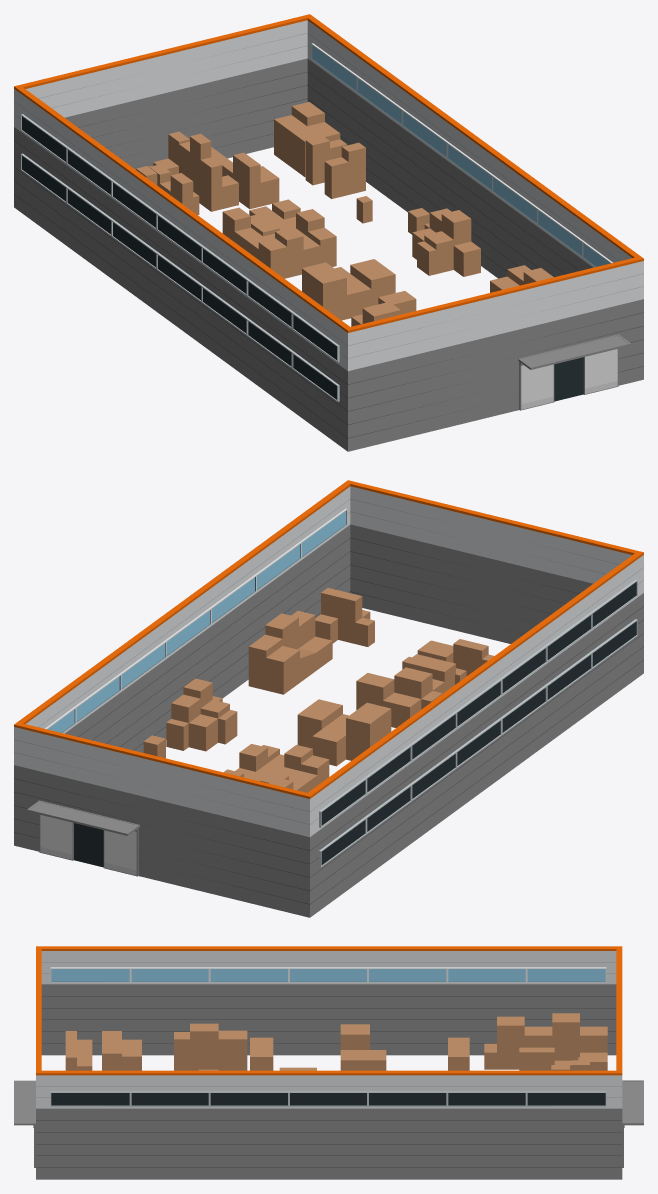
3 views of the same model, one above another, from view 1: azimuth 30°, elevation 25°; view 2: azimuth 150°, elevation 25°; view 3: azimuth 270°, elevation 25° (orthographic). The views are drawn at different scales.
Parts seen in each view (by area): view 1: ProductWhs.001, ProductWhs_Boxes.001; view 2: ProductWhs.001, ProductWhs_Boxes.001; view 3: ProductWhs.001, ProductWhs_Boxes.001.
Boxes of the visible parts, box(x1,y1,x2,y2) form: ProductWhs.001: box(14, 14, 643, 451); ProductWhs_Boxes.001: box(136, 102, 553, 326); ProductWhs.001: box(14, 480, 643, 917); ProductWhs_Boxes.001: box(143, 588, 493, 792); ProductWhs.001: box(14, 946, 643, 1179); ProductWhs_Boxes.001: box(65, 1013, 607, 1070).
Bounding box in the file's own units: 25.91 × 10.23 × 53.74.
Materials: 2 (2 with a texture image).
